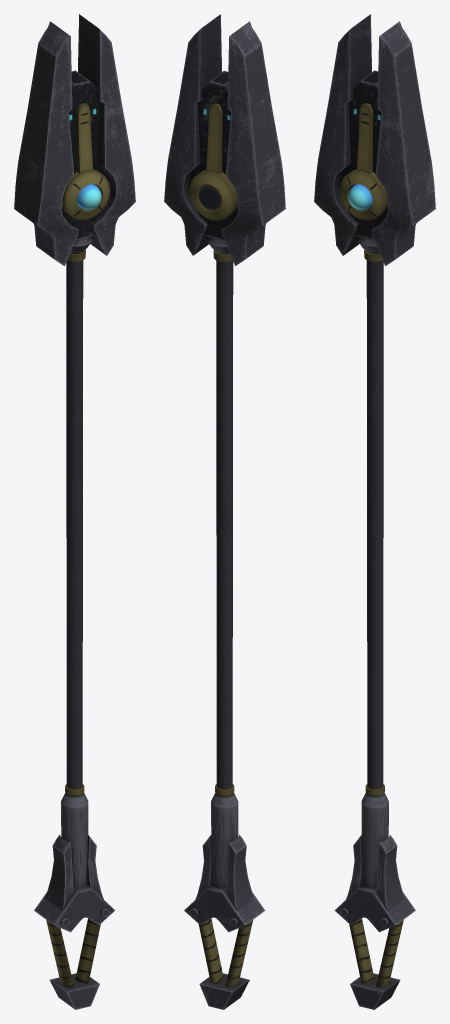
The model's file is Stylised_Mage_Staff_Model.fbx.
3 views of the same model, side by side, from view 1: azimuth 30°, elevation 25°; view 2: azimuth 150°, elevation 25°; view 3: azimuth 330°, elevation 25° (orthographic).
Parts seen in each view (by area): view 1: Stylised_Mage_Staff_Model; view 2: Stylised_Mage_Staff_Model; view 3: Stylised_Mage_Staff_Model.
Part boxes in pixels (bbox=[...]): Stylised_Mage_Staff_Model: bbox=[14, 14, 135, 1009]; Stylised_Mage_Staff_Model: bbox=[164, 14, 285, 1009]; Stylised_Mage_Staff_Model: bbox=[314, 14, 435, 1009].
Bounding box in the file's own units: 22.55 × 213 × 14.07.
